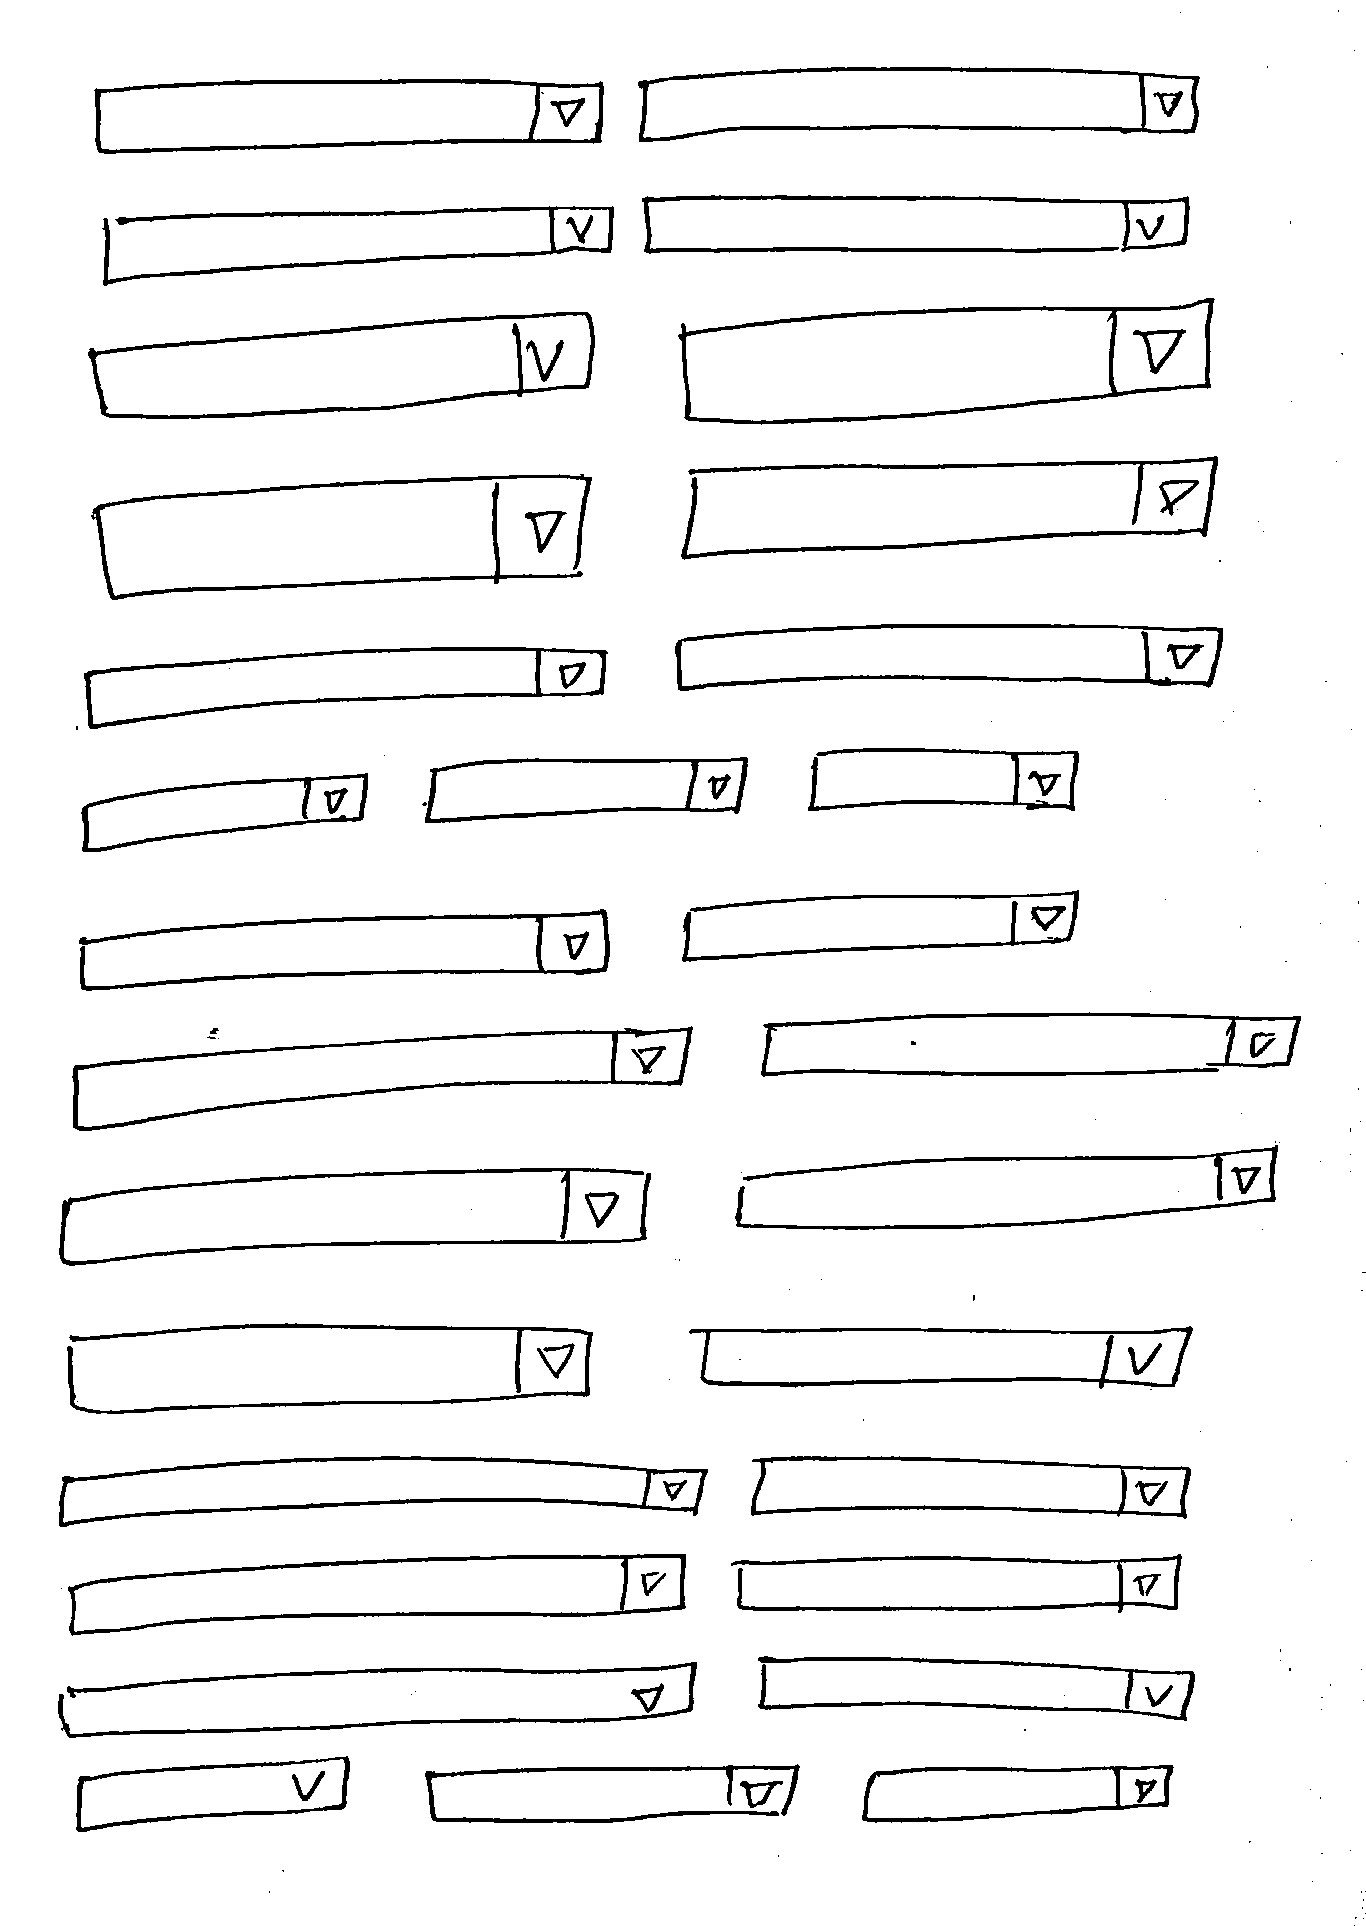Select: (677, 296, 1217, 426), (67, 1024, 693, 1132), (92, 472, 594, 602), (56, 1163, 653, 1267), (677, 455, 1220, 565), (86, 307, 599, 421), (64, 1551, 690, 1636), (64, 1321, 597, 1418), (52, 1452, 707, 1527), (56, 1661, 696, 1738), (732, 1143, 1282, 1231), (81, 642, 608, 732), (75, 906, 611, 992), (86, 71, 612, 157), (636, 64, 1202, 142), (99, 203, 616, 287), (671, 622, 1224, 695), (755, 1007, 1302, 1079), (642, 189, 1192, 256), (693, 1324, 1192, 1389), (757, 1651, 1196, 1722), (677, 888, 1082, 964), (732, 1552, 1183, 1616), (747, 1454, 1195, 1517), (421, 1757, 804, 1827), (71, 1752, 356, 1839), (78, 769, 371, 851), (421, 754, 747, 826), (857, 1757, 1175, 1825), (801, 746, 1081, 811)
